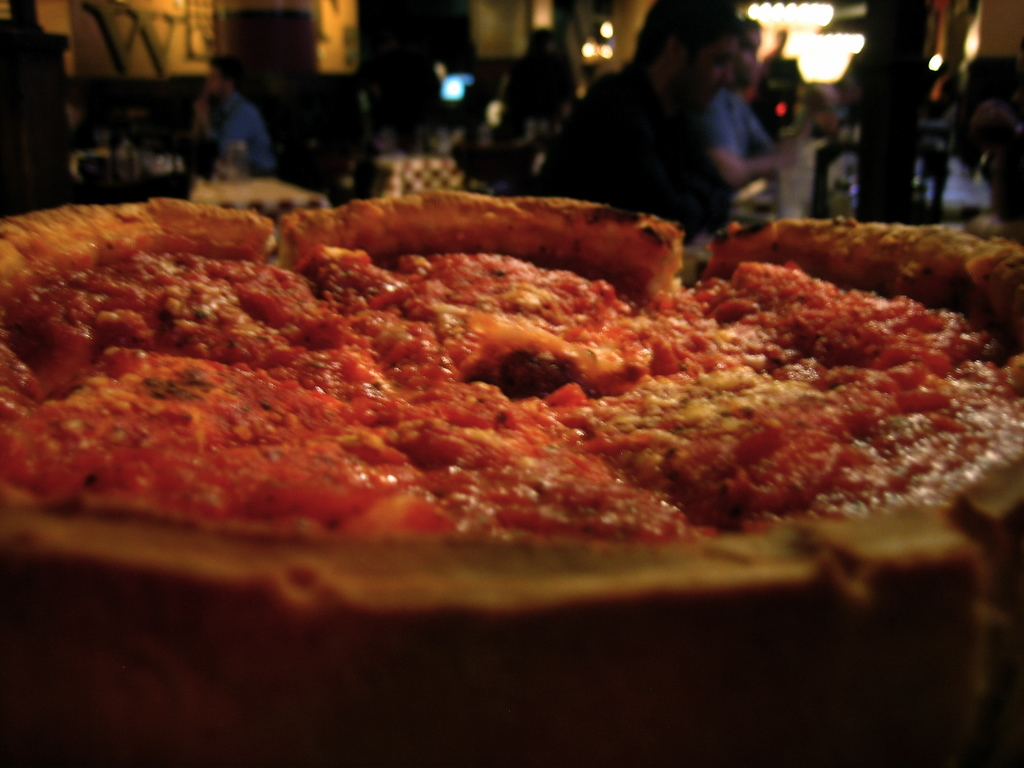Pizza: (0, 172, 1023, 656)
